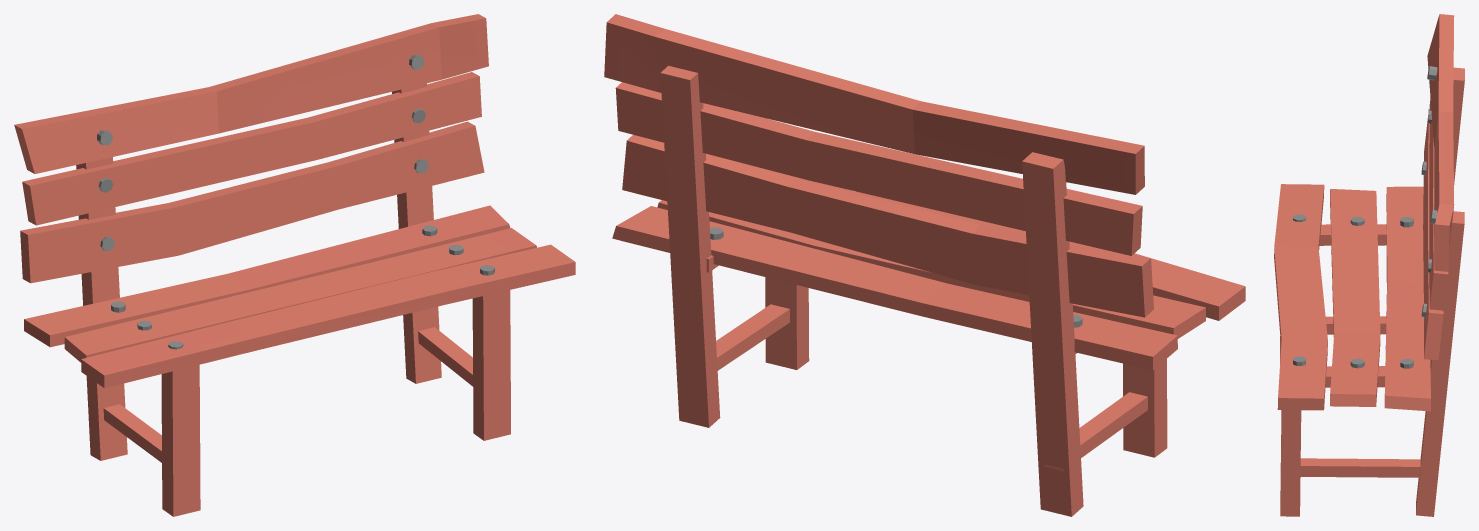
File: SM_bench.fbx
The picture shows the model from 3 angles, left to right: view 1: azimuth 30°, elevation 25°; view 2: azimuth 150°, elevation 25°; view 3: azimuth 270°, elevation 25°; orthographic projection. The views are drawn at different scales.
Parts seen in each view (by area): view 1: bench, SM_bench_screws; view 2: bench; view 3: bench, SM_bench_screws.
Boxes of the visible parts, <box> form: bench: <box>14,14,575,516</box>; SM_bench_screws: <box>97,54,494,349</box>; bench: <box>604,14,1245,516</box>; bench: <box>1274,14,1464,516</box>; SM_bench_screws: <box>1293,66,1437,368</box>.
Size of the model in its own units: 133 by 92.17 by 50.01.
